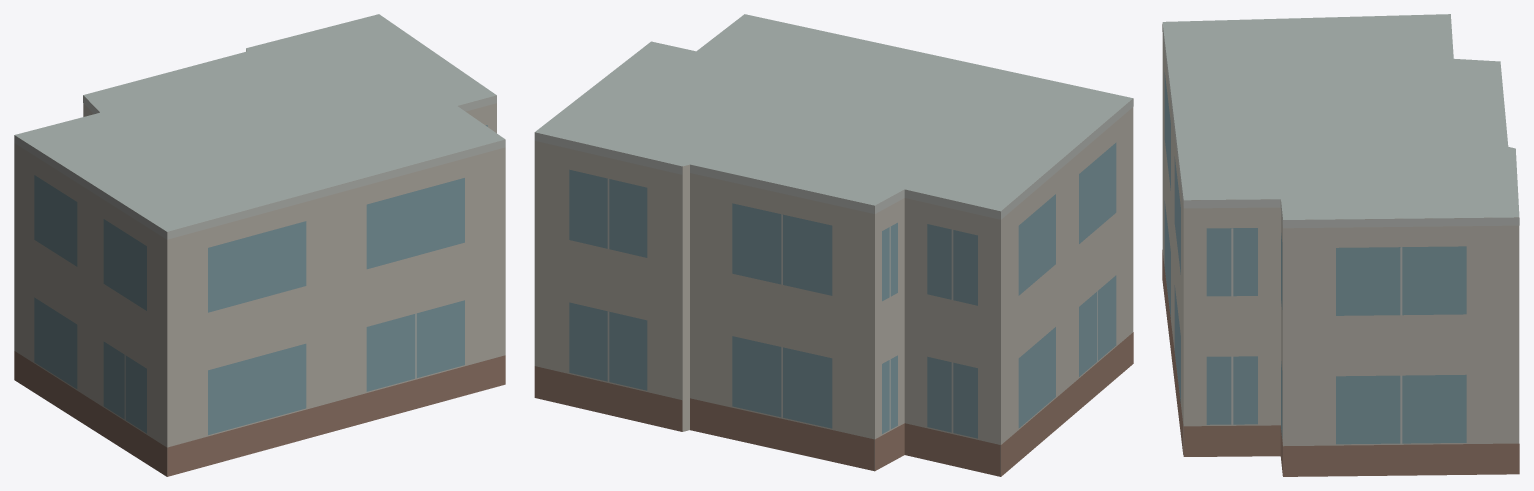
The model's file is survey-upis-32604555.glb.
The picture shows the model from 3 angles, left to right: view 1: azimuth 30°, elevation 25°; view 2: azimuth 150°, elevation 25°; view 3: azimuth 270°, elevation 25°; orthographic projection. The views are drawn at different scales.
Visible parts, largest first — view 1: survey-upis-32604555.tmp; view 2: survey-upis-32604555.tmp; view 3: survey-upis-32604555.tmp.
Boxes of the visible parts, x1,y1,x2,y2 form: survey-upis-32604555.tmp: [14, 14, 505, 476]; survey-upis-32604555.tmp: [534, 14, 1133, 476]; survey-upis-32604555.tmp: [1162, 14, 1519, 476].
Size of the model in its own units: 13.08 by 7.6 by 9.59.
